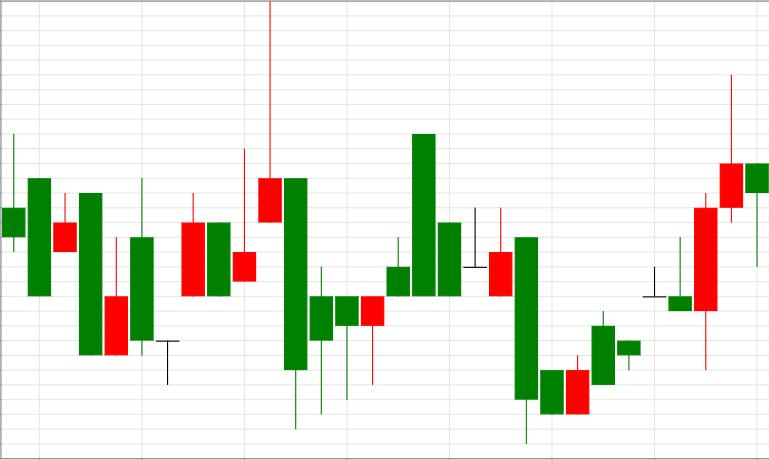hanging_man_fall: (567, 164, 769, 414)
shooting_star_fall: (567, 75, 742, 414), (156, 2, 281, 384)
